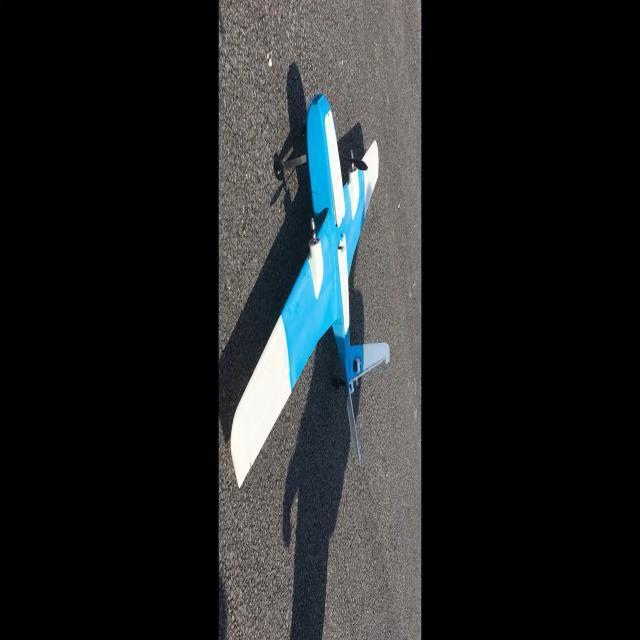iha: (222, 60, 404, 502)
